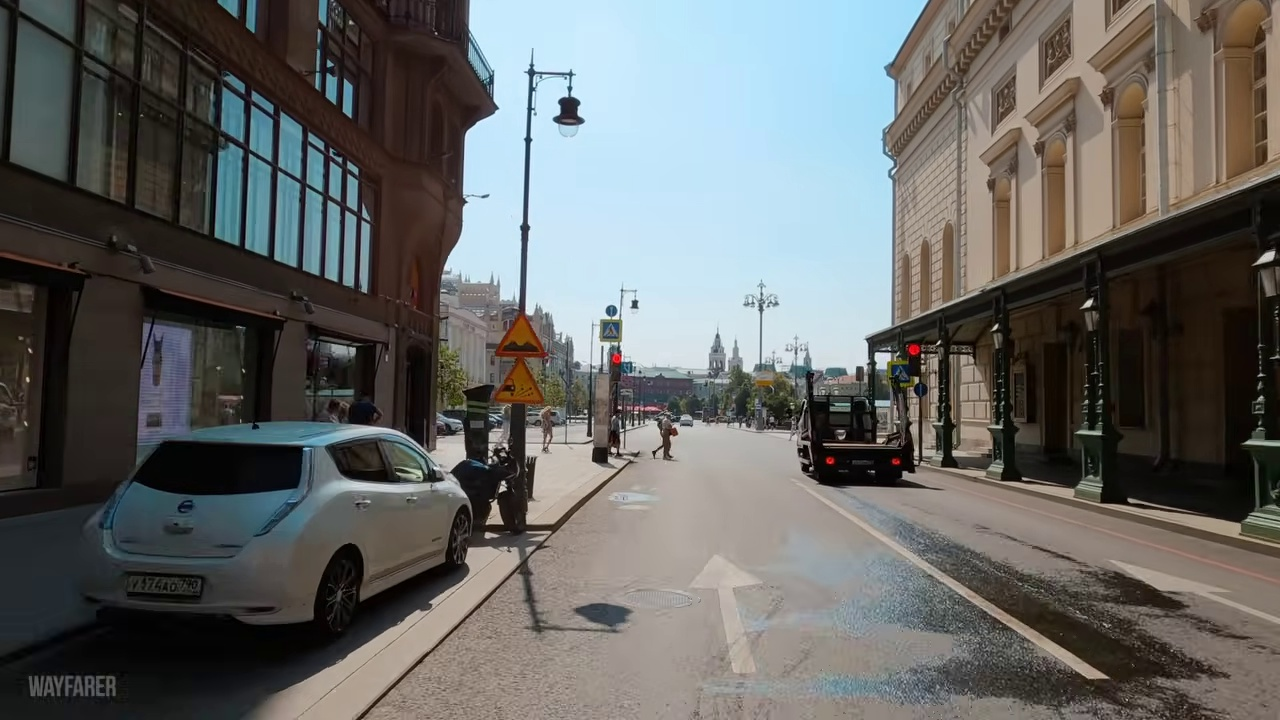apagada: (549, 98, 585, 139), (621, 292, 643, 315)
